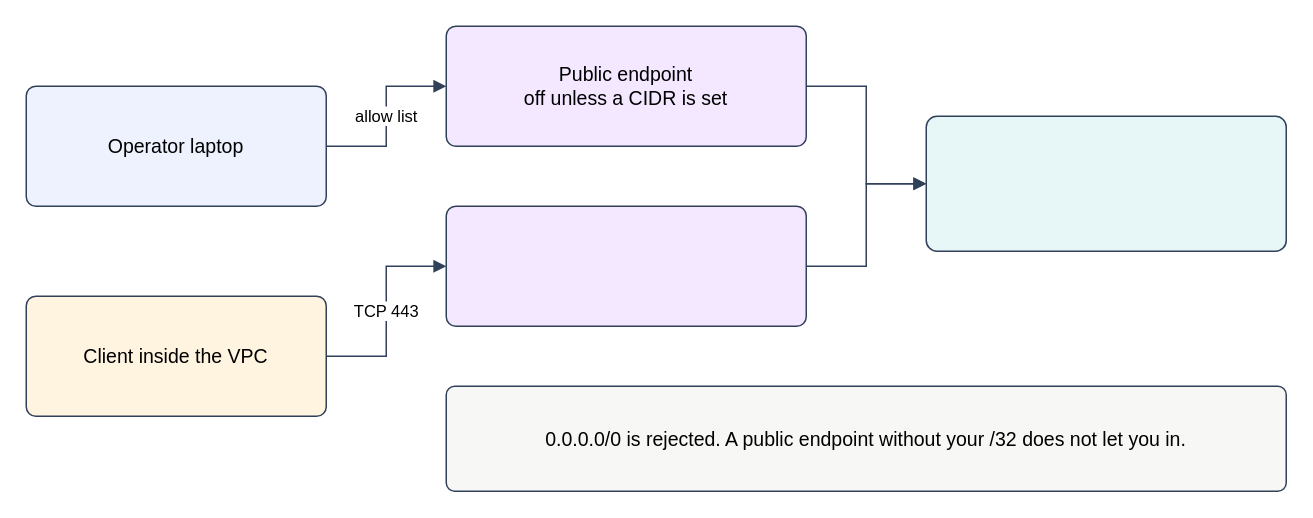
Some shapes in this 1313 by 518 pixel diagram are drawn without their labels. The shapes that lost their labels are listed below. From the top down, each one's centre as x and y in pixels, then its label:
At [1105,183]: "Control plane ENIs cluster security group plus the VPC API group".
At [625,265]: "Private endpoint always enabled".
